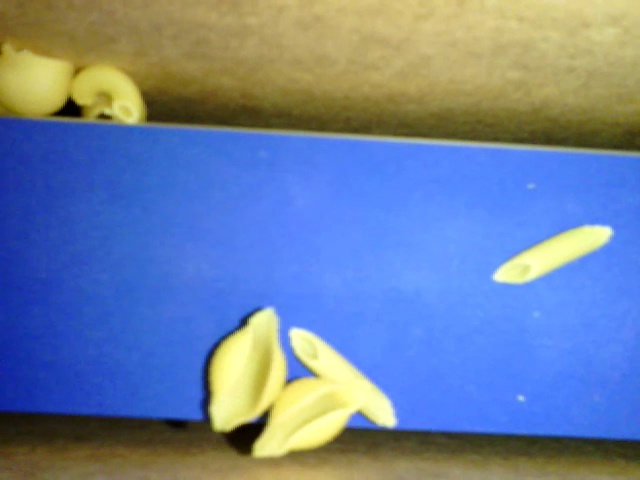elbow: (71, 64, 142, 123)
penne: (286, 326, 397, 427), (491, 225, 613, 284)
shell: (209, 307, 286, 432), (251, 377, 370, 457), (1, 43, 77, 115), (82, 92, 145, 122)
